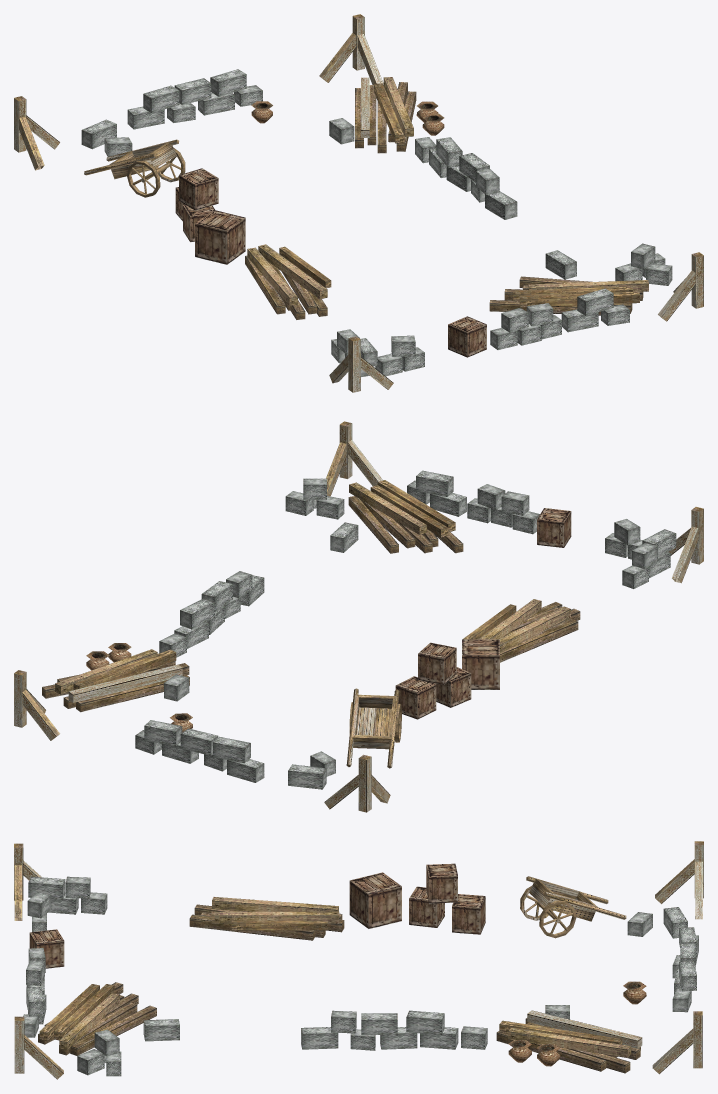
Rendered from found_3x6_a.dae.
3 views of the same model, one above another, from view 1: azimuth 30°, elevation 25°; view 2: azimuth 150°, elevation 25°; view 3: azimuth 270°, elevation 25° (orthographic). The views are drawn at different scales.
Visible parts, largest first — view 1: Object13-Pivot; view 2: Object13-Pivot; view 3: Object13-Pivot.
Boxes of the visible parts, x1,y1,x2,y2 form: Object13-Pivot: (14, 14, 703, 392); Object13-Pivot: (14, 421, 703, 812); Object13-Pivot: (14, 841, 703, 1079).
Size of the model in its own units: 19.68 by 31.5 by 3.
